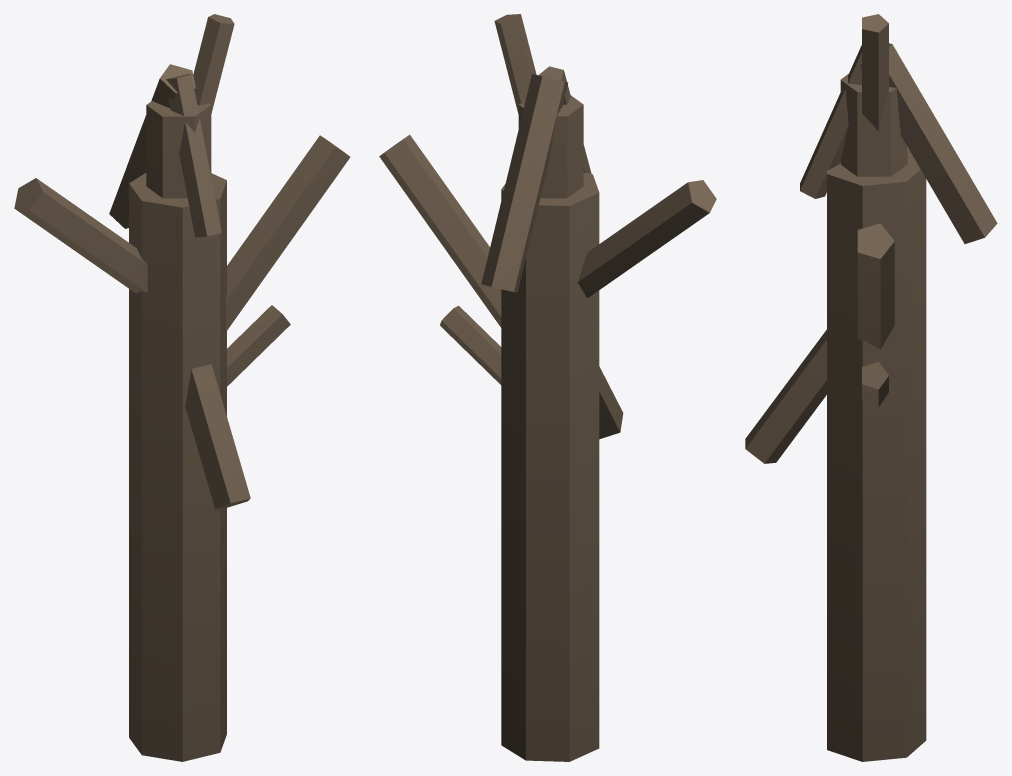
File: tree_dead.glb
The picture shows the model from 3 angles, left to right: view 1: azimuth 30°, elevation 25°; view 2: azimuth 150°, elevation 25°; view 3: azimuth 270°, elevation 25°; orthographic projection. The views are drawn at different scales.
Visible parts, largest first — view 1: tree_dead; view 2: tree_dead; view 3: tree_dead.
Part boxes in pixels (x1=…): tree_dead: x1=14, y1=14, x2=350, y2=761; tree_dead: x1=379, y1=14, x2=716, y2=761; tree_dead: x1=745, y1=14, x2=997, y2=761.
Size of the model in its own units: 1.06 by 2.19 by 0.6747.
